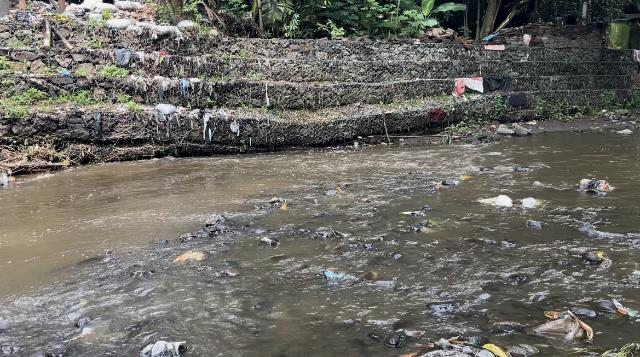Sampah Anorganik: (533, 312, 597, 343), (474, 192, 516, 212), (577, 175, 615, 197), (612, 299, 639, 320), (318, 265, 346, 282), (519, 191, 543, 209), (401, 209, 428, 217), (456, 173, 472, 181)
Sampah Organik: (404, 336, 507, 357), (170, 251, 209, 263), (609, 343, 640, 357), (414, 220, 443, 234), (334, 187, 349, 197), (434, 183, 442, 194), (280, 203, 288, 210)
